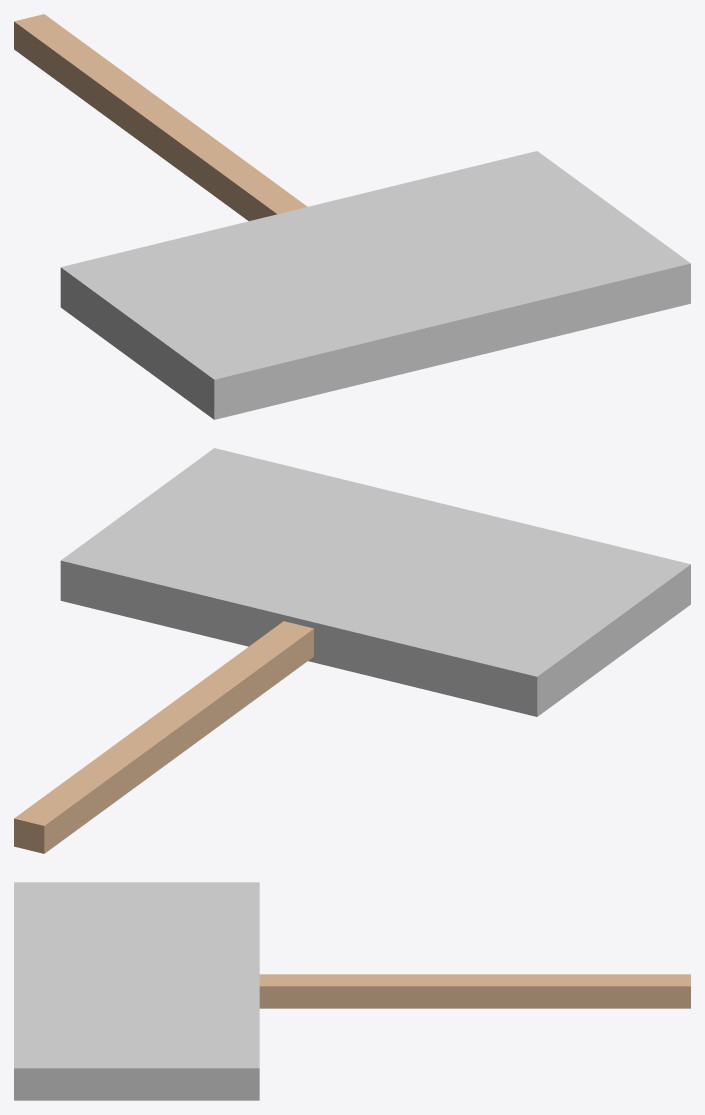
Rendered from billboardModel.fbx.
3 views of the same model, one above another, from view 1: azimuth 30°, elevation 25°; view 2: azimuth 150°, elevation 25°; view 3: azimuth 270°, elevation 25° (orthographic). The views are drawn at different scales.
Parts seen in each view (by area): view 1: Cube; view 2: Cube; view 3: Cube.
Boxes of the visible parts, x1,y1,x2,y2 form: Cube: [14, 14, 690, 419]; Cube: [14, 448, 690, 853]; Cube: [14, 882, 690, 1100].
Size of the model in its own units: 408 by 32.9 by 628.
